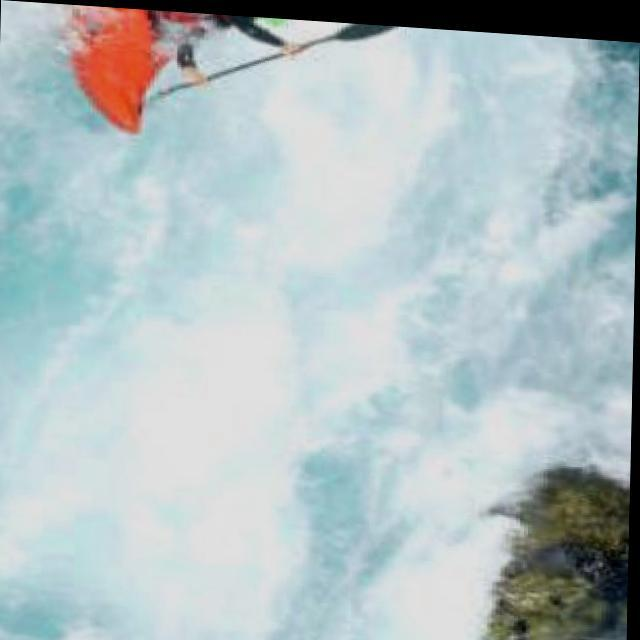kayak: (76, 4, 165, 131)
